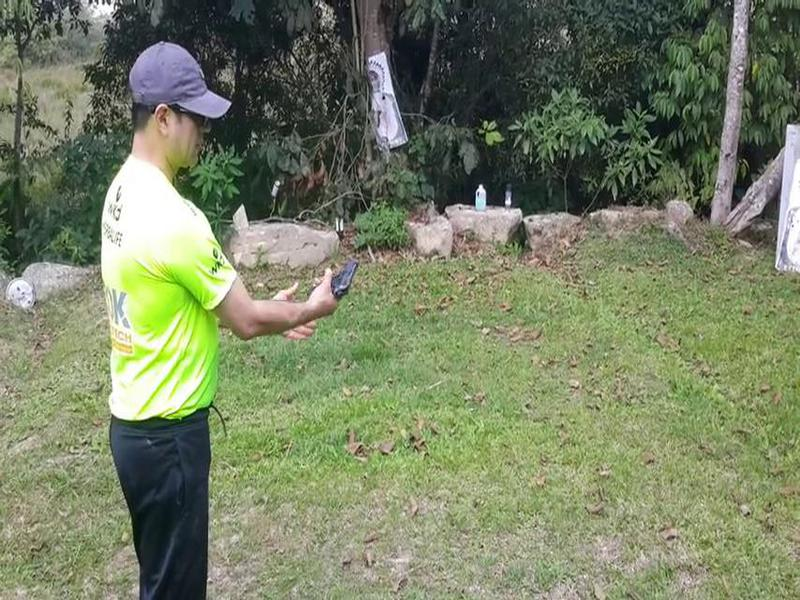Pistola: (319, 259, 367, 315)
